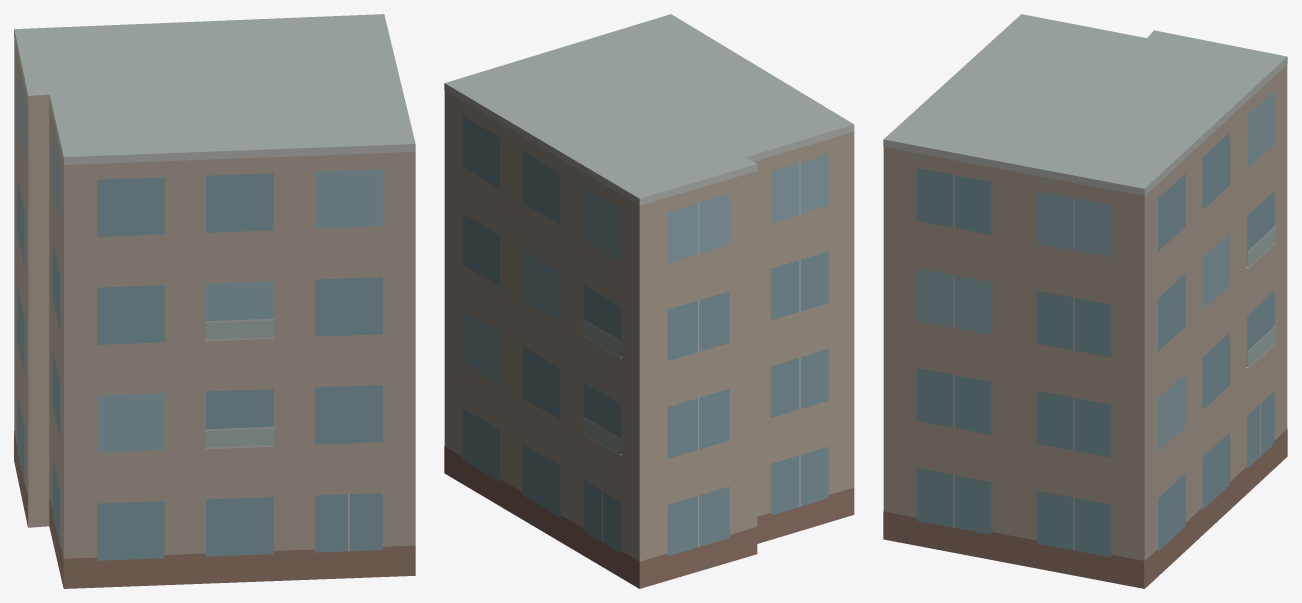
Rendered from survey-upis-32526922.glb.
3 renders of one model, left to right at view 1: azimuth 30°, elevation 25°; view 2: azimuth 150°, elevation 25°; view 3: azimuth 270°, elevation 25°, orthographic. The views are drawn at different scales.
Parts seen in each view (by area): view 1: survey-upis-32526922.tmp; view 2: survey-upis-32526922.tmp; view 3: survey-upis-32526922.tmp.
Part boxes in pixels (x1=…): survey-upis-32526922.tmp: x1=14, y1=14, x2=415, y2=588; survey-upis-32526922.tmp: x1=444, y1=14, x2=854, y2=588; survey-upis-32526922.tmp: x1=883, y1=14, x2=1287, y2=588.
Size of the model in its own units: 12.58 by 13.4 by 12.28.
